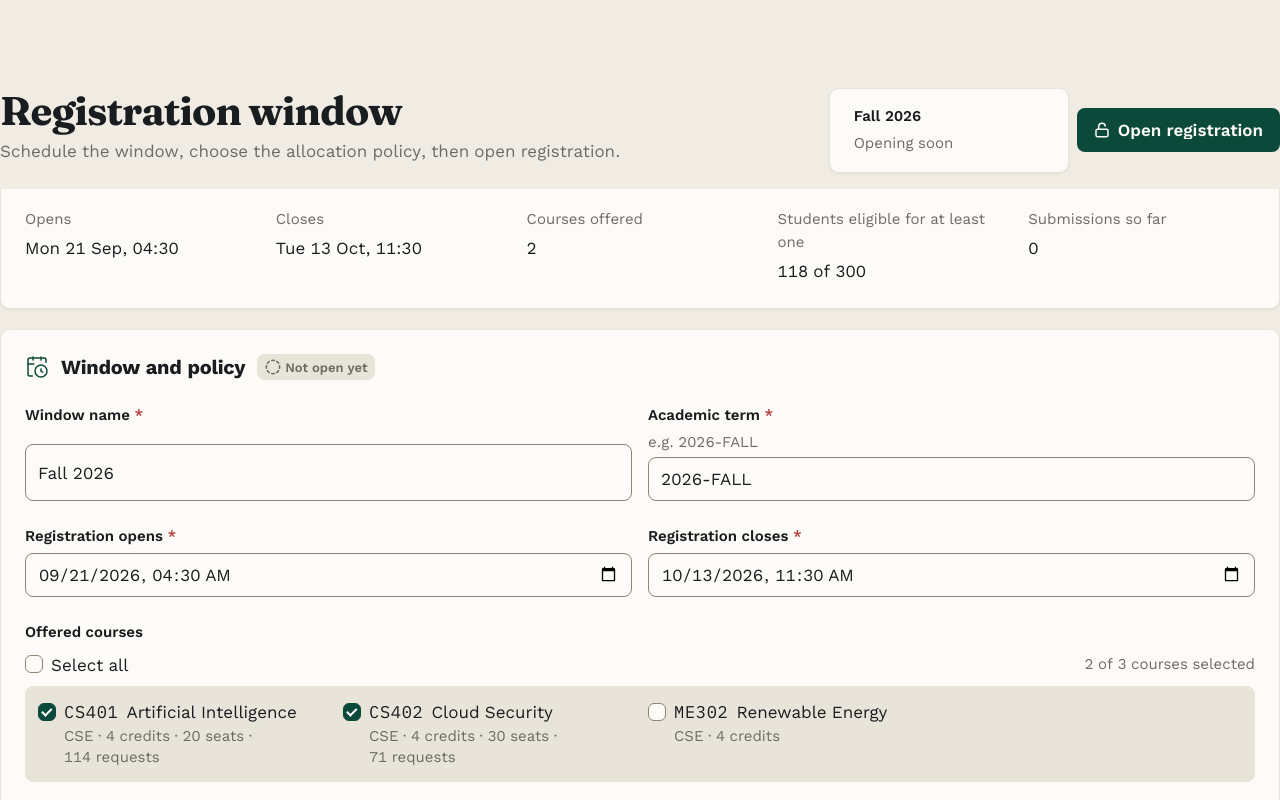
it: RegistrationWindowPage › opens registration after confirming what will be frozen
Click the button "Open registration": click(1178, 130) x1=1077 y1=108 x2=1279 y2=152
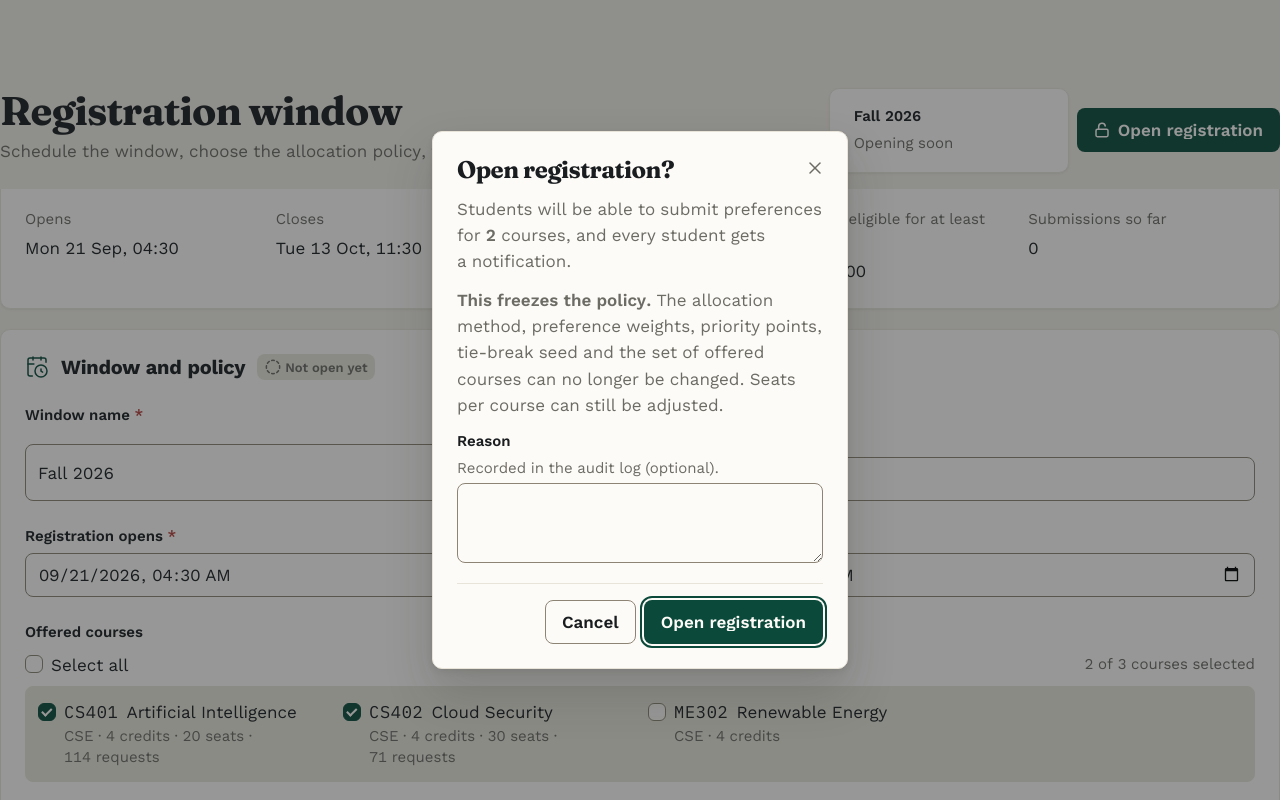
Check: the text "This freezes the policy." is shown, box x1=457 y1=290 x2=651 y2=310
In the text box labelled "Reason": (640, 523) x1=457 y1=483 x2=823 y2=563, type "Term starts today"
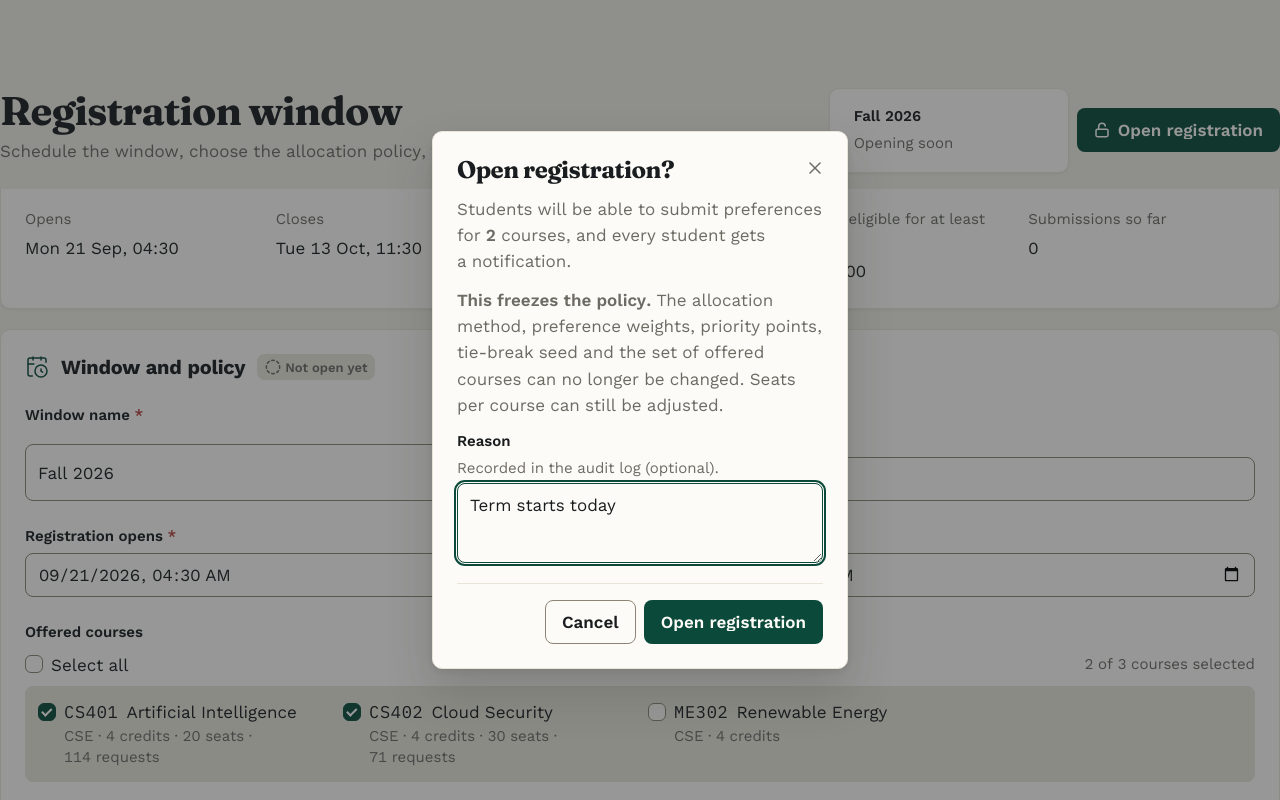
Click the button "Open registration": click(733, 622) x1=644 y1=600 x2=823 y2=644
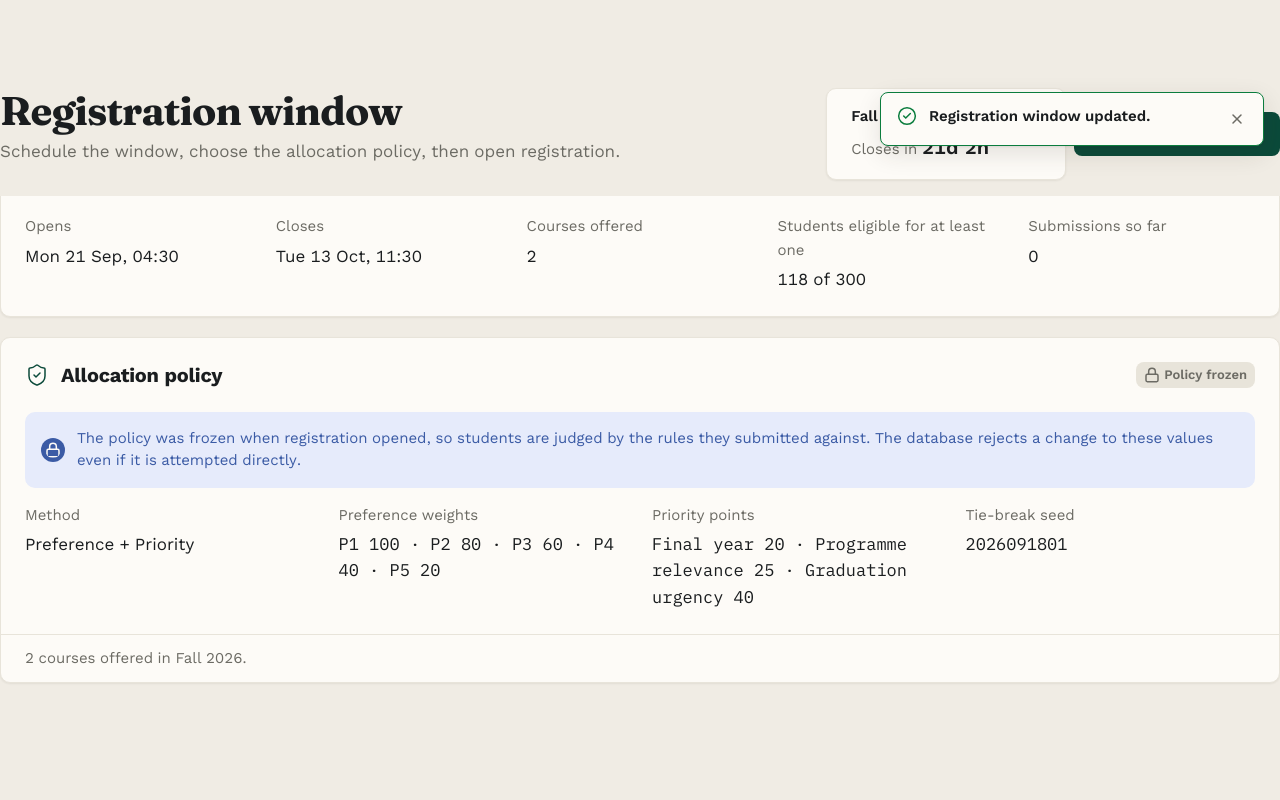
Check: the heading "Allocation policy" is shown, box x1=25 y1=363 x2=222 y2=387
